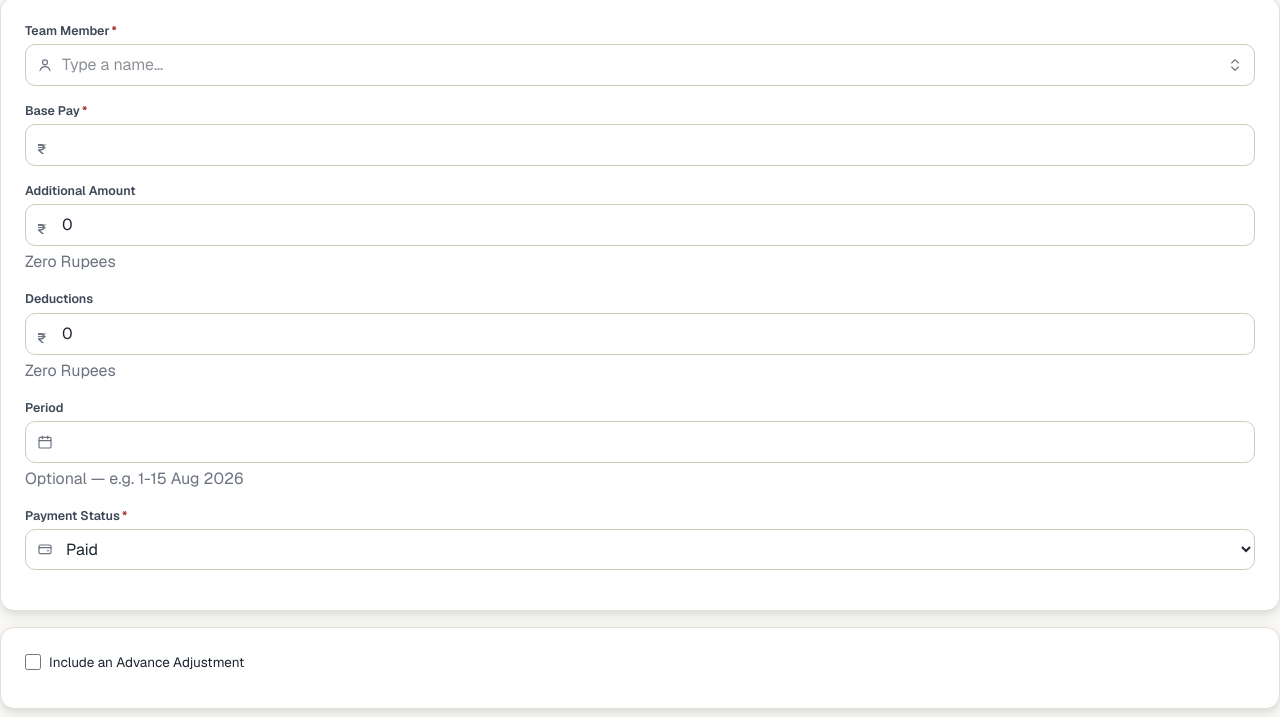
Test: PaymentForm › computes Net Payable live from Base Pay + Additional - Deductions with no Advance Adjustment (AC #1, #3)
In the number field labelled "Base Pay": (640, 145) top-left (25, 124), bottom-right (1255, 166), type "15000"
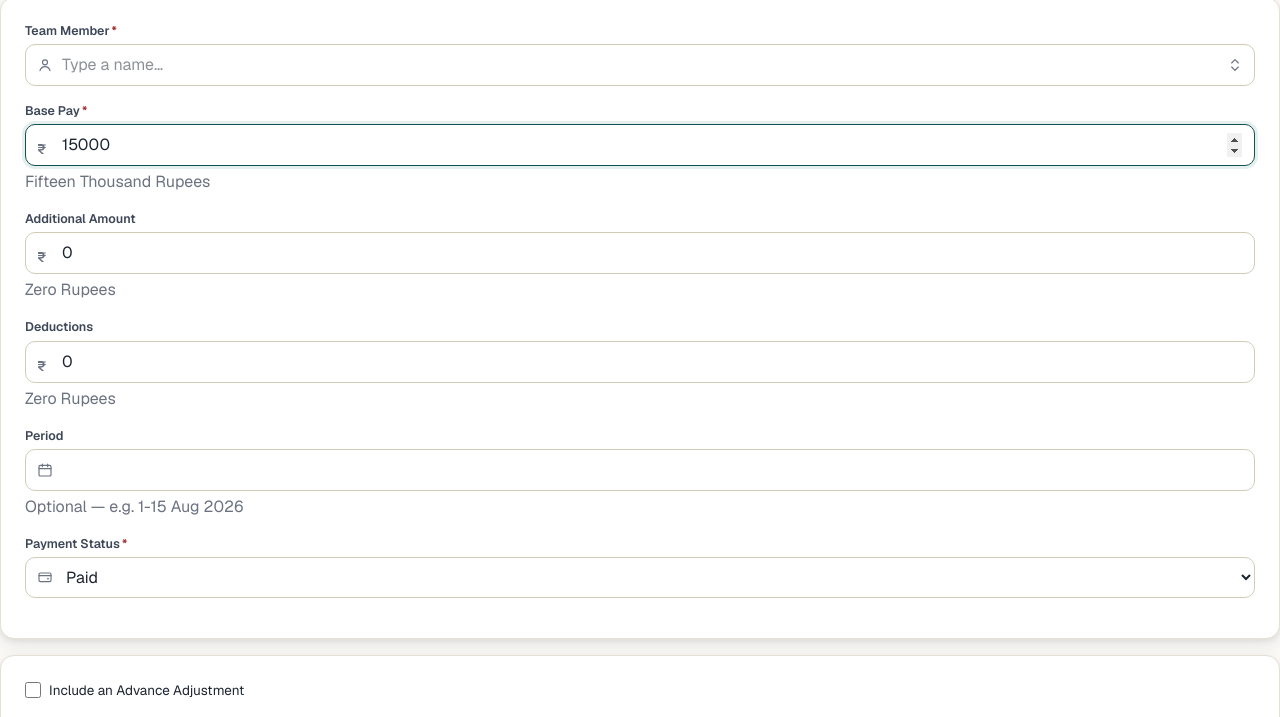
Replace the text in the number field labelled "Additional Amount" with "2000": (640, 253) top-left (25, 232), bottom-right (1255, 274)
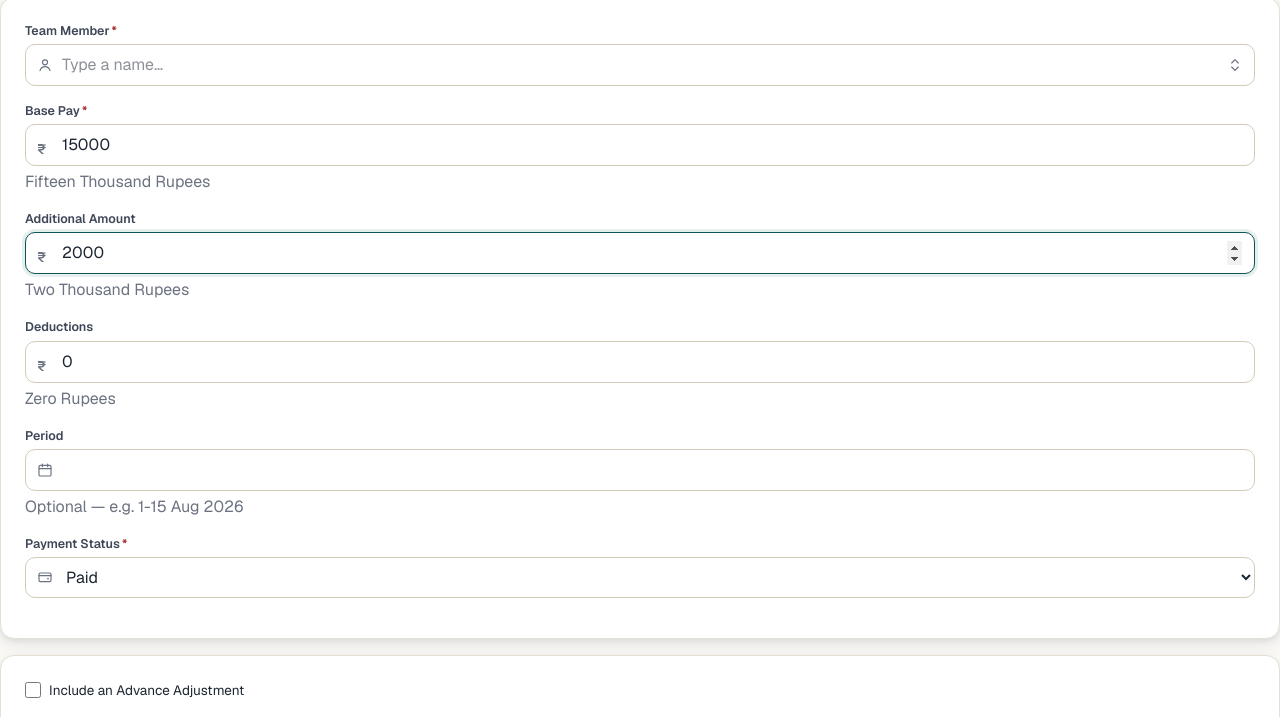
Replace the text in the number field labelled "Deductions" with "500": (640, 362) top-left (25, 340), bottom-right (1255, 382)
(page scrolled)
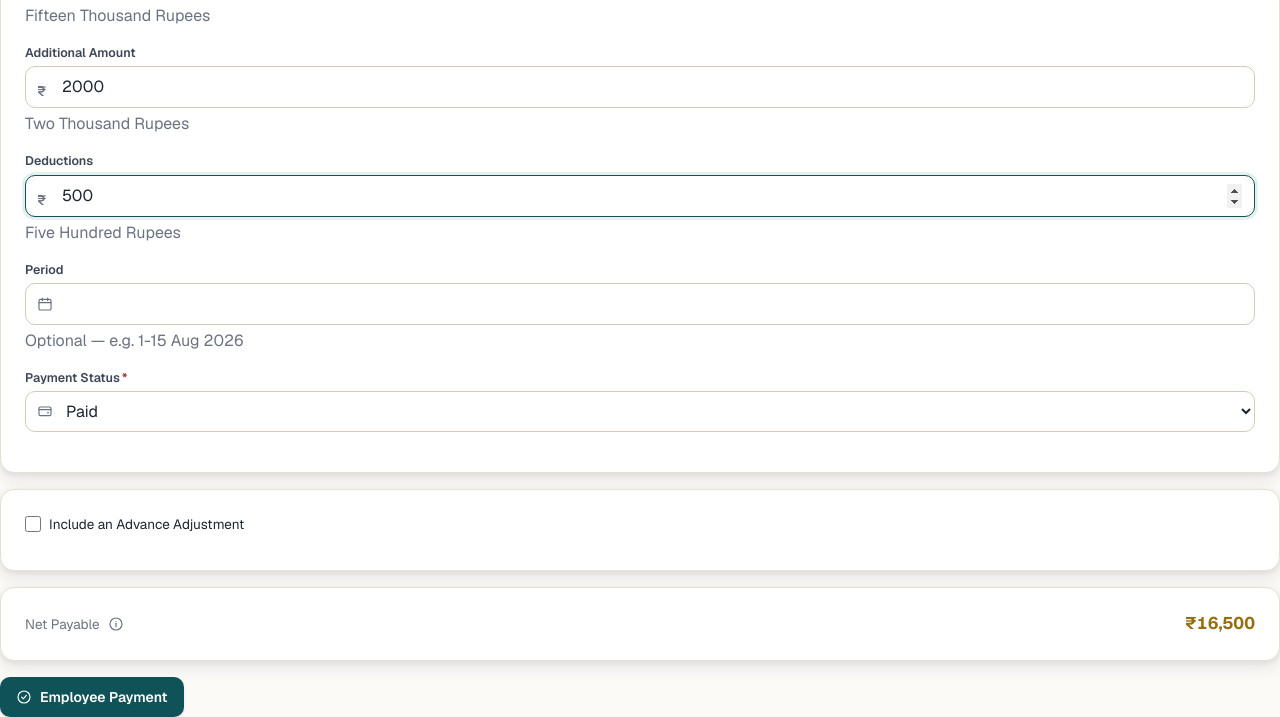
Check: the text "₹16,500" is shown, box top-left (1185, 612), bottom-right (1255, 636)
